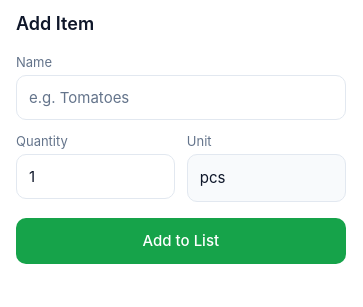
Test: AddItemSheet › shows error when quantity is invalid
Type "Apples" into the field with placeholder "e.g. Tomatoes" at (181, 98), box [16, 75, 346, 120]
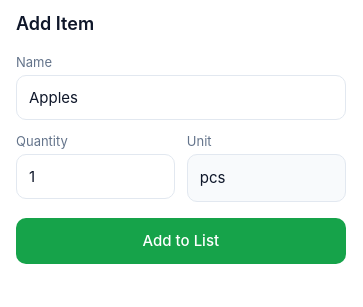
Type "xyz" into the field with placeholder "1" below "Quantity" at (95, 176), box [16, 154, 175, 199]
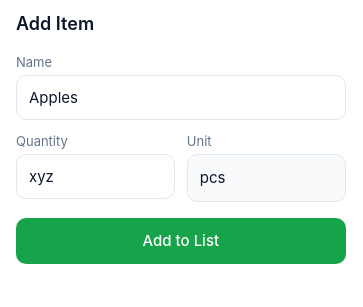
Click the text "Add to List" at (181, 241), box [143, 230, 219, 252]
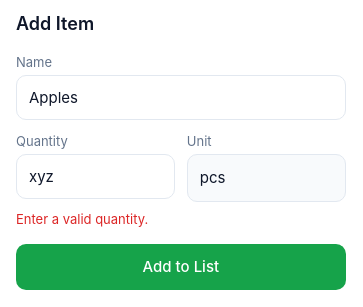
expect the text "Enter a valid quantity." is shown: met, box [16, 211, 148, 227]
